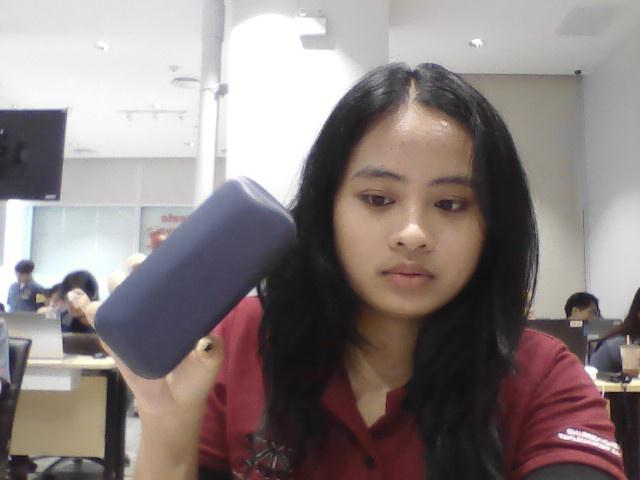glasses box: (93, 179, 299, 378)
